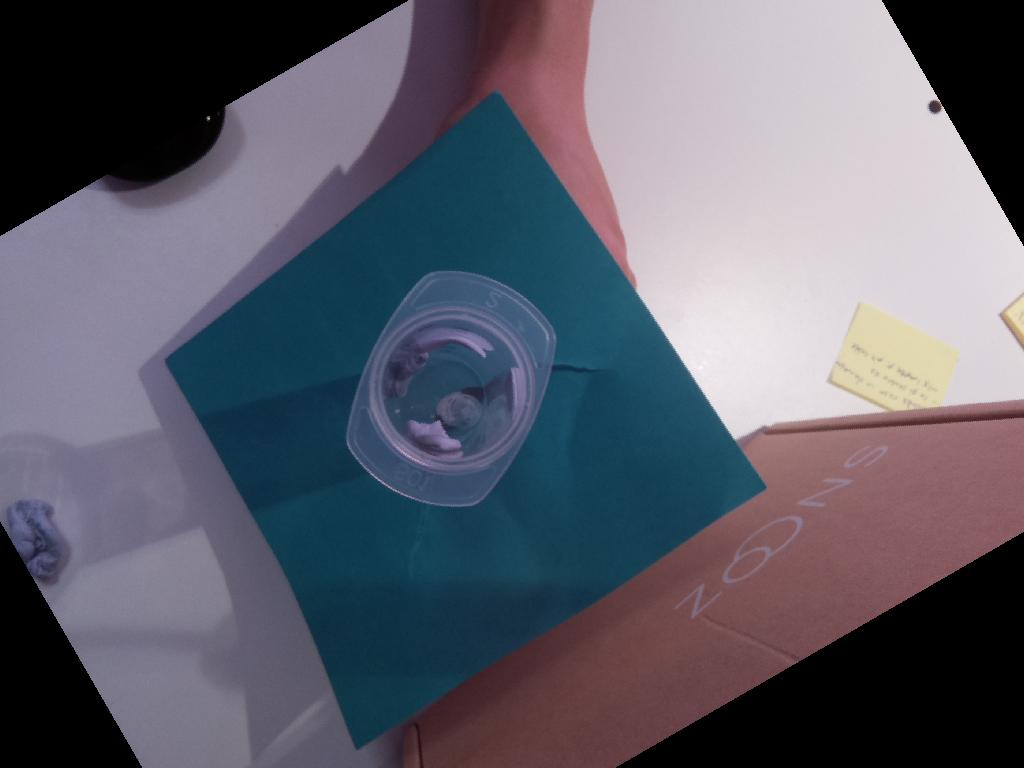dirty: (345, 268, 557, 510)
